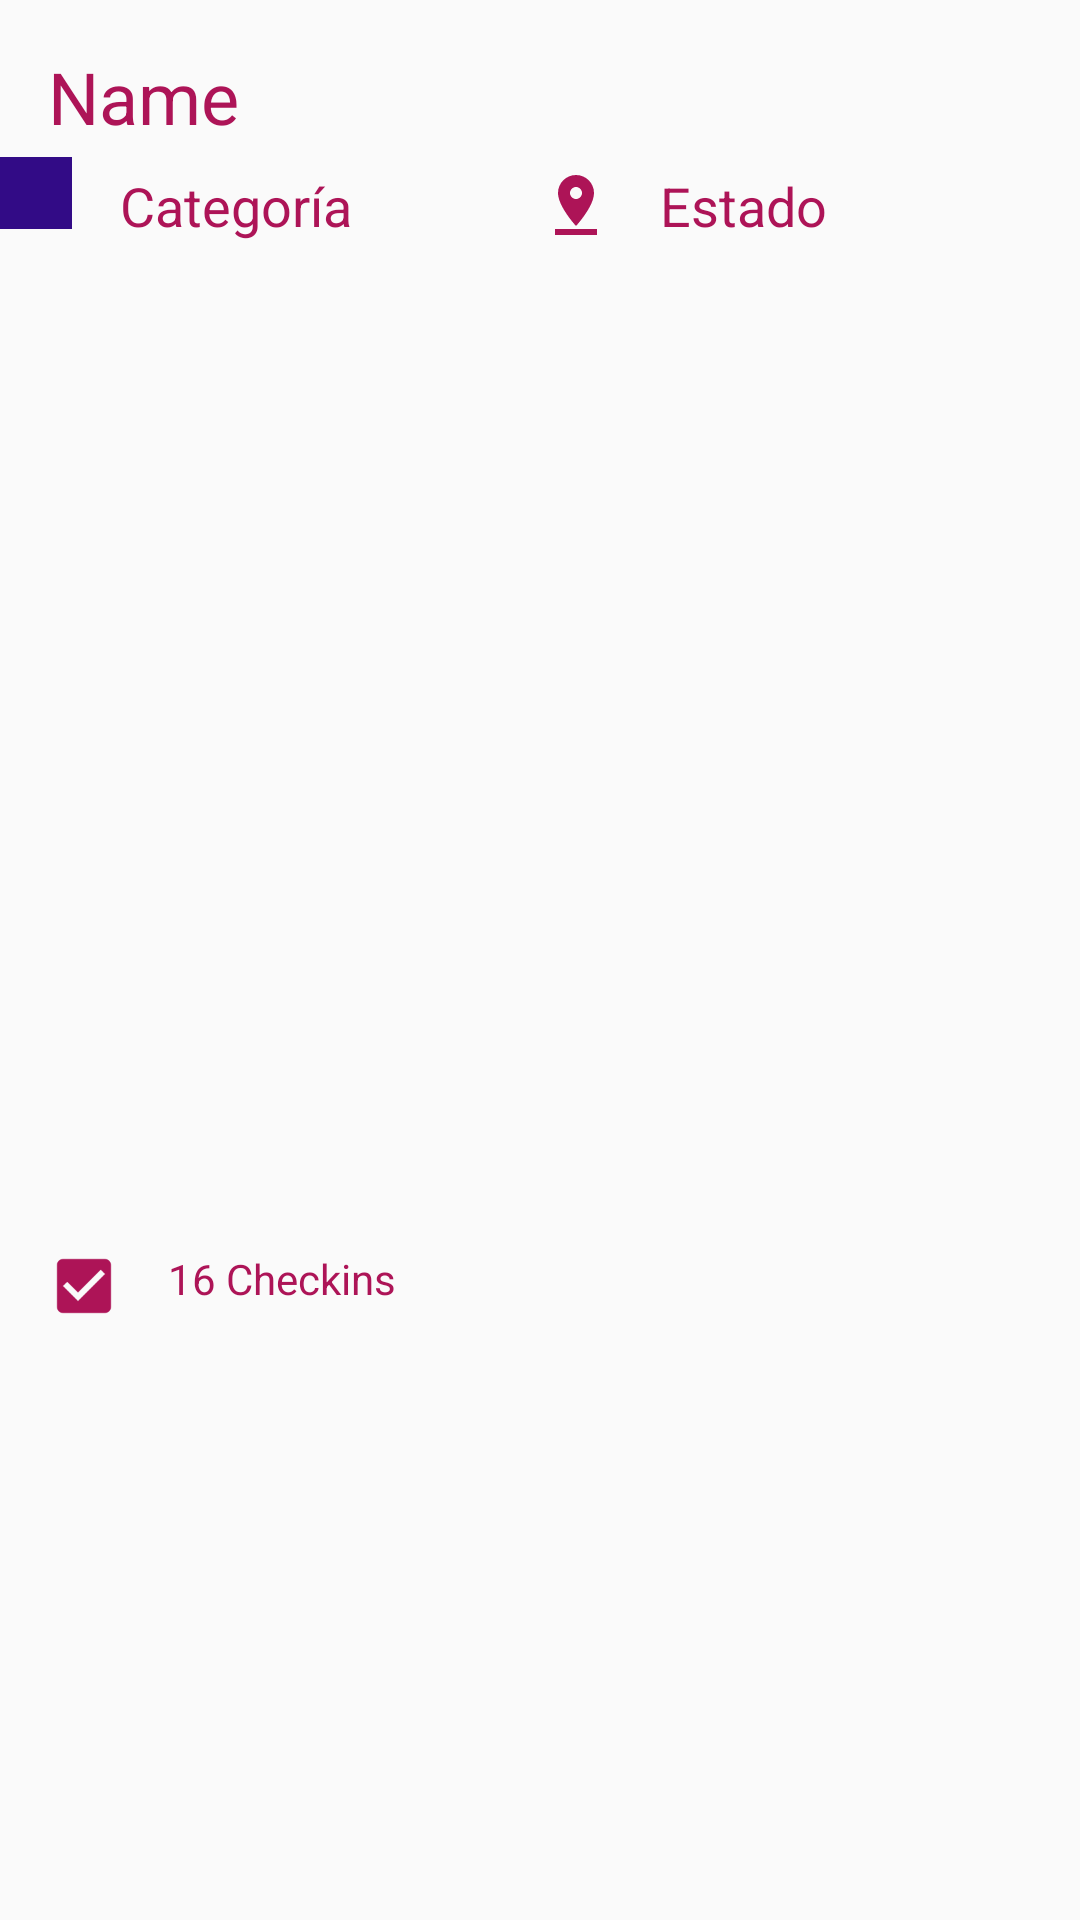

Where to tap for icons on this 1080 x 1920 app screen, as (x=x, y=y):
ubicacion: (x=576, y=205)
